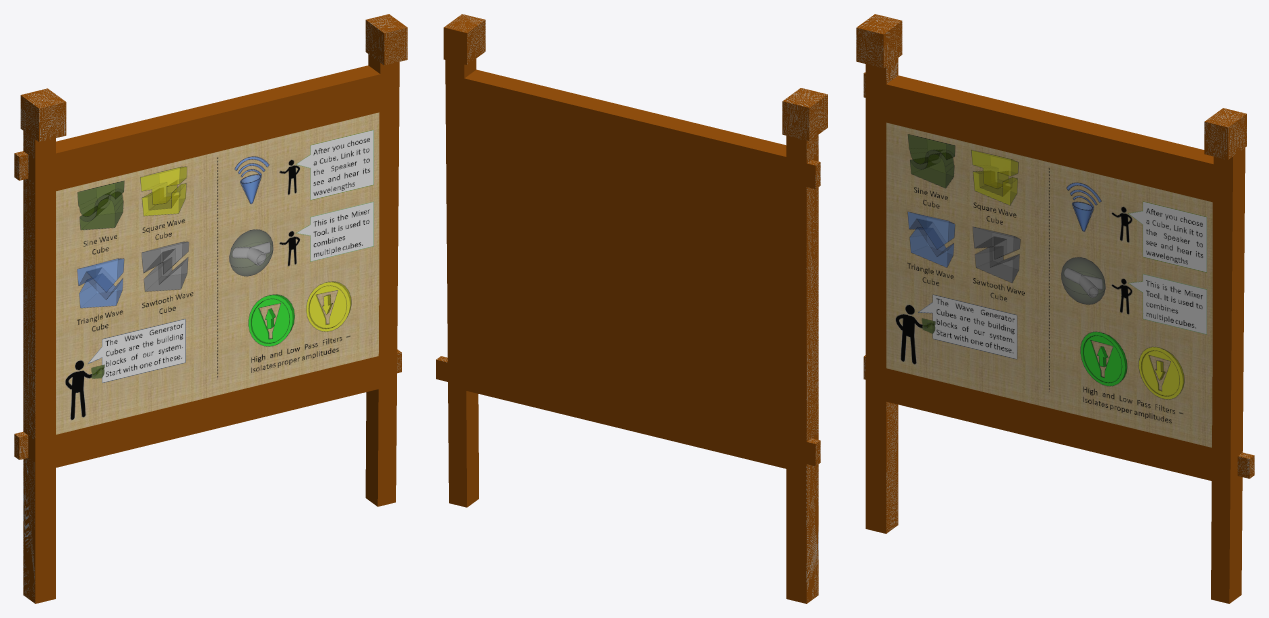
File: sign1.dae
3 views of the same model, side by side, from view 1: azimuth 30°, elevation 25°; view 2: azimuth 150°, elevation 25°; view 3: azimuth 330°, elevation 25° (orthographic).
Parts seen in each view (by area): view 1: Camp_Milton_Sign_2 (×6); view 2: Camp_Milton_Sign_2 (×3); view 3: Camp_Milton_Sign_2 (×6).
Part boxes in pixels (bbox=[...]): Camp_Milton_Sign_2 (×6): bbox=[14, 14, 407, 603]; Camp_Milton_Sign_2 (×3): bbox=[436, 14, 827, 603]; Camp_Milton_Sign_2 (×6): bbox=[856, 14, 1246, 603].
Size of the model in its own units: 1.3 by 0.1092 by 1.62.
